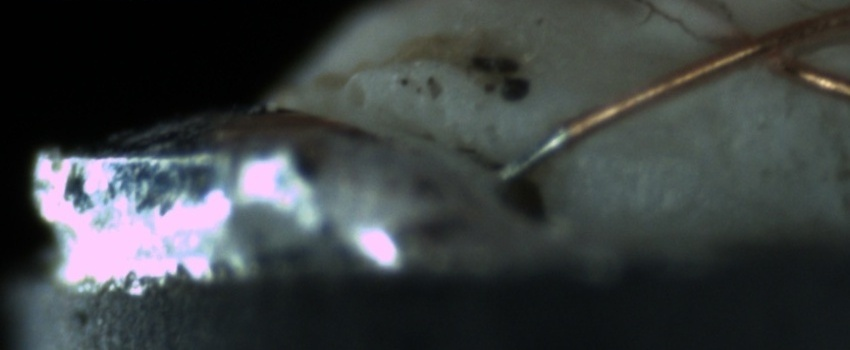CL: (687, 15, 833, 80)
DL: (571, 115, 703, 173)
TS: (497, 126, 572, 182)
TTCW: (498, 109, 590, 183)
